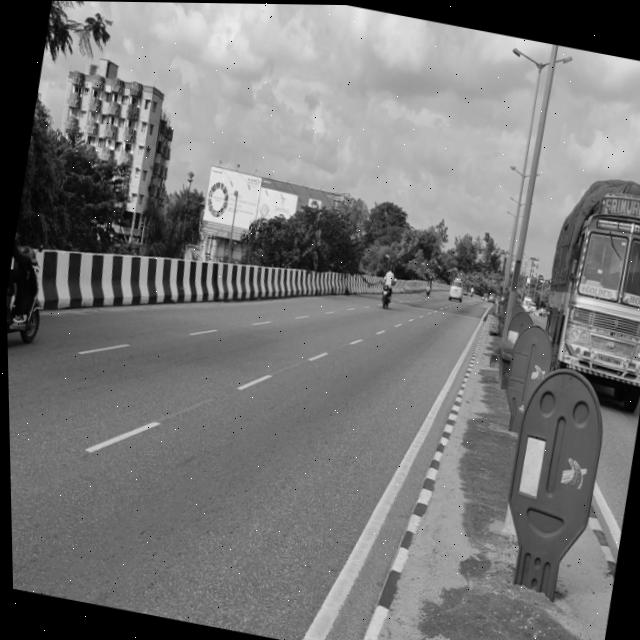bike: (4, 242, 51, 349)
truck: (534, 166, 640, 383)
